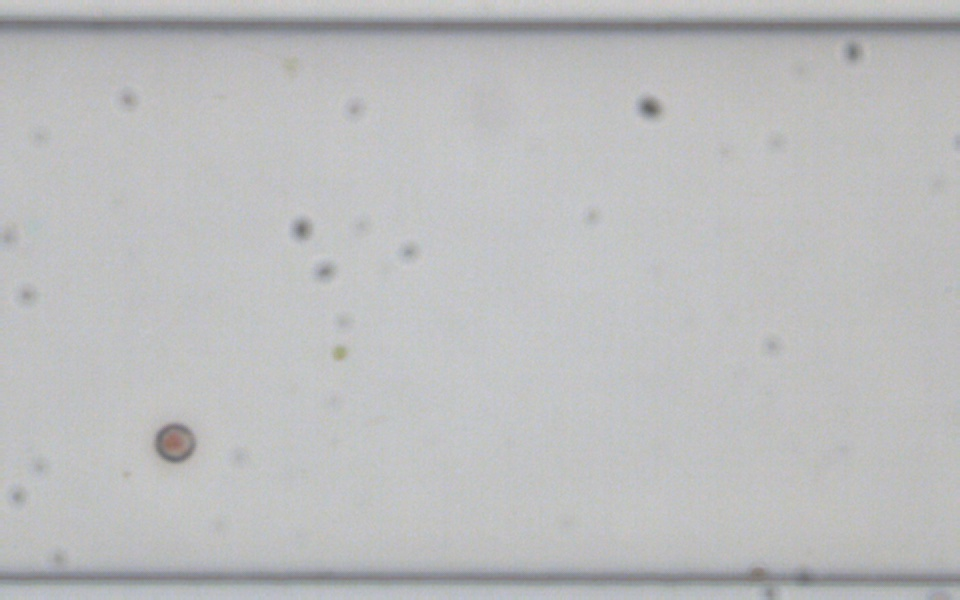Chlorella: (329, 343, 347, 362)
Porphyridium: (151, 419, 197, 464)
